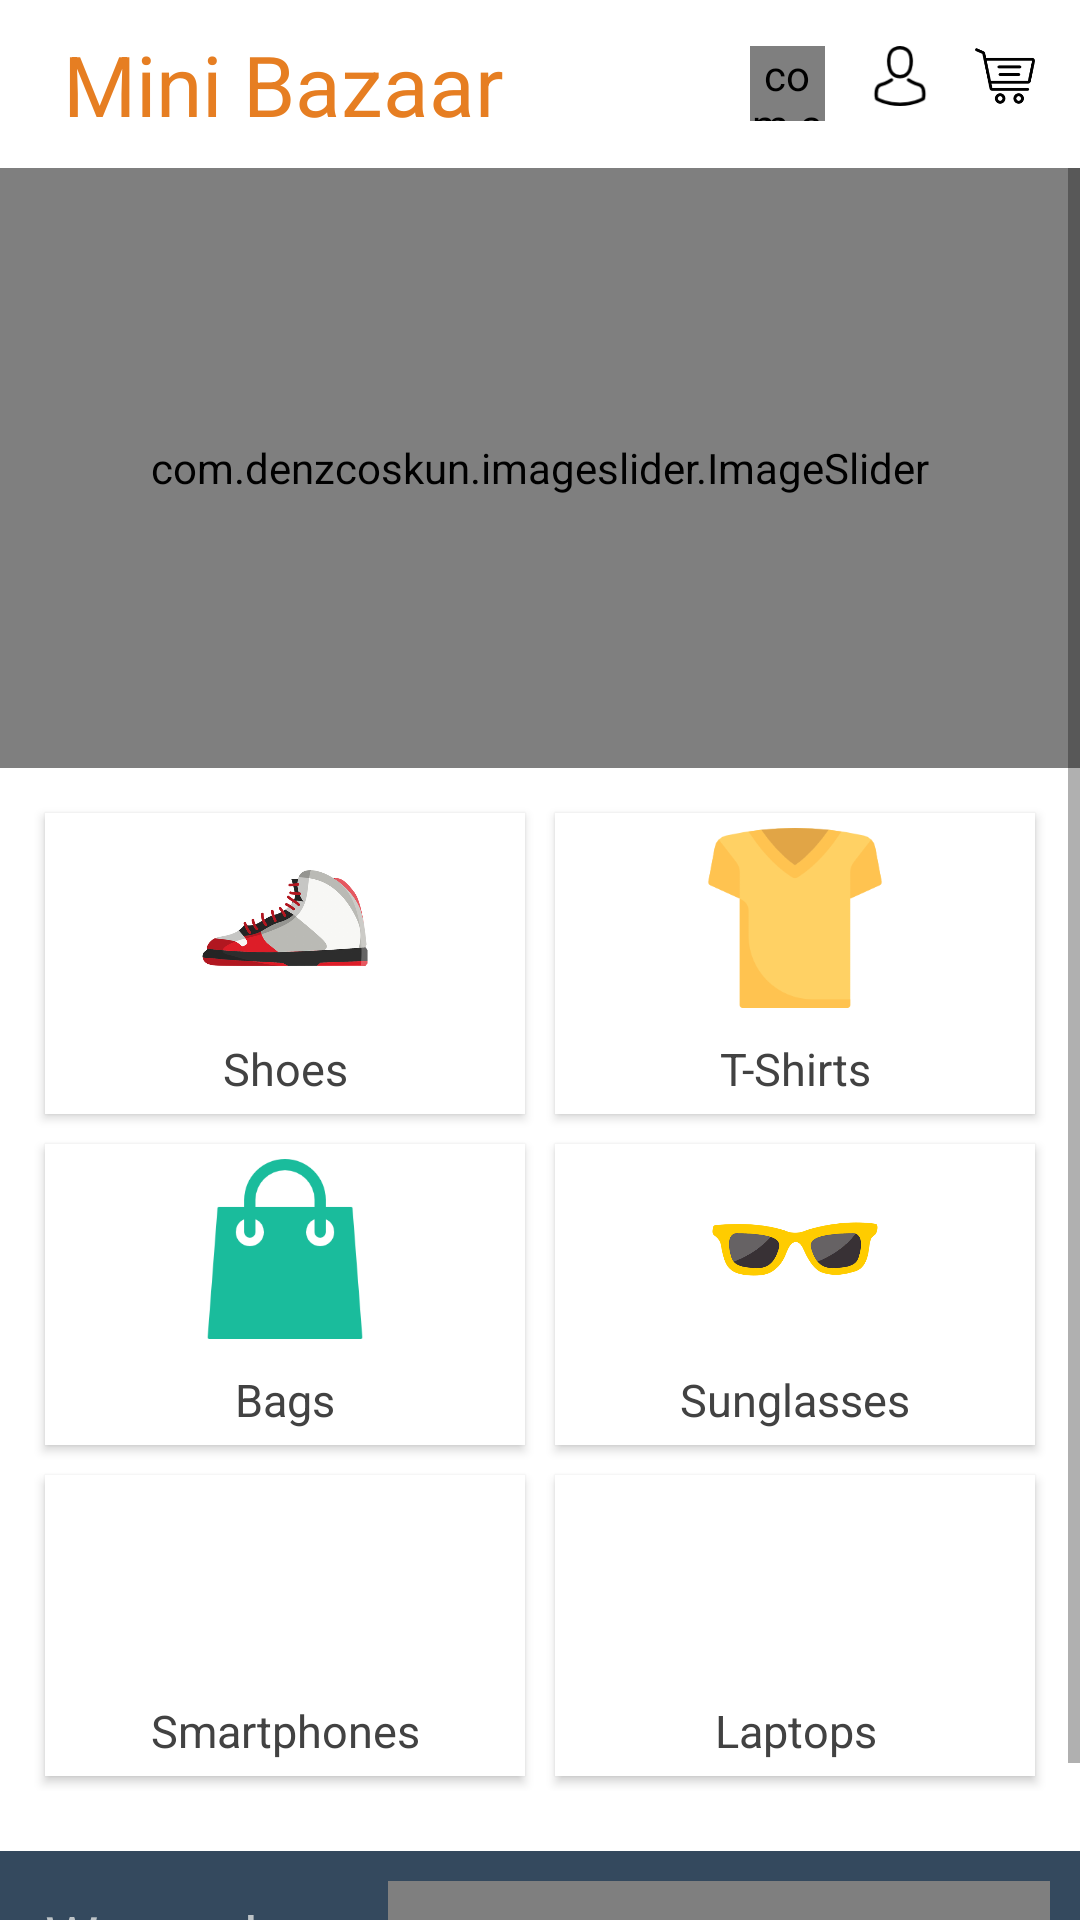

Icons on this 1080×1920 Android screen, each with the point to tap as point (x, y):
cart: point (1005, 76)
profile: point (900, 76)
